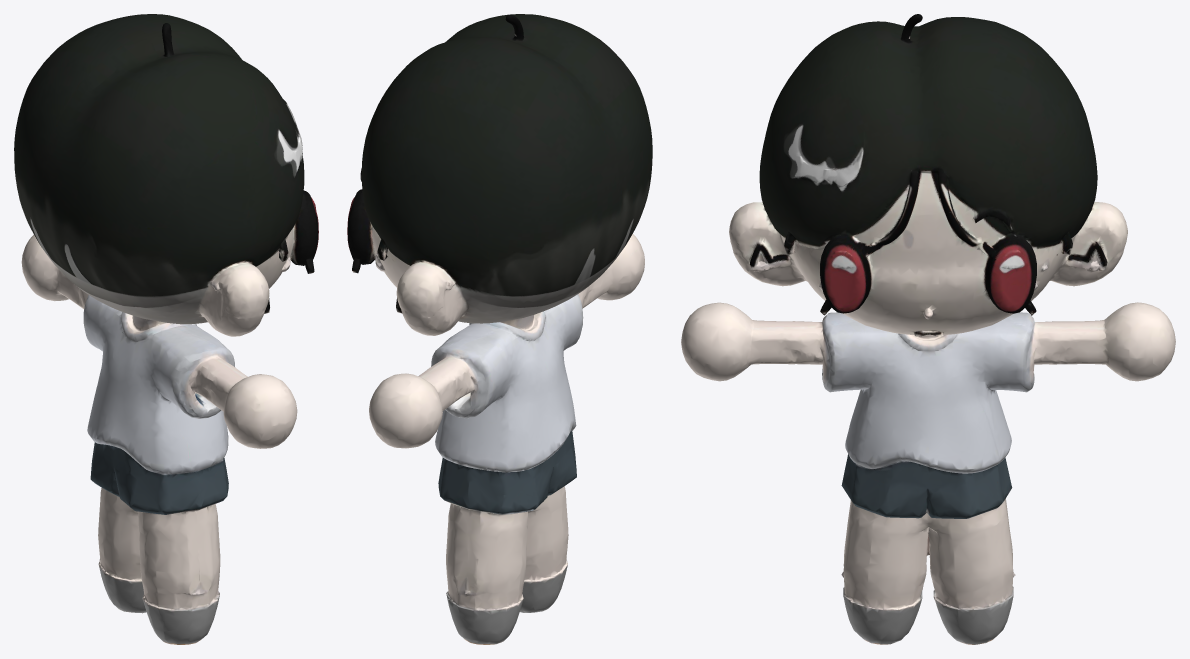
Rendered from geon.glb.
The picture shows the model from 3 angles, left to right: view 1: azimuth 30°, elevation 25°; view 2: azimuth 150°, elevation 25°; view 3: azimuth 270°, elevation 25°; orthographic projection. The views are drawn at different scales.
Visible parts, largest first — view 1: tripo_node_f701e8cc-d5e5-49a8-b906-586e1ee4ff2f; view 2: tripo_node_f701e8cc-d5e5-49a8-b906-586e1ee4ff2f; view 3: tripo_node_f701e8cc-d5e5-49a8-b906-586e1ee4ff2f.
Part boxes in pixels (bbox=[...]): tripo_node_f701e8cc-d5e5-49a8-b906-586e1ee4ff2f: bbox=[14, 14, 318, 644]; tripo_node_f701e8cc-d5e5-49a8-b906-586e1ee4ff2f: bbox=[347, 14, 652, 644]; tripo_node_f701e8cc-d5e5-49a8-b906-586e1ee4ff2f: bbox=[681, 14, 1175, 644].
Size of the model in its own units: 0.4035 by 1 by 0.7204.
1 material, 1 textured.
